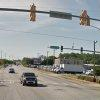Traffic light: (26, 2, 41, 28)
